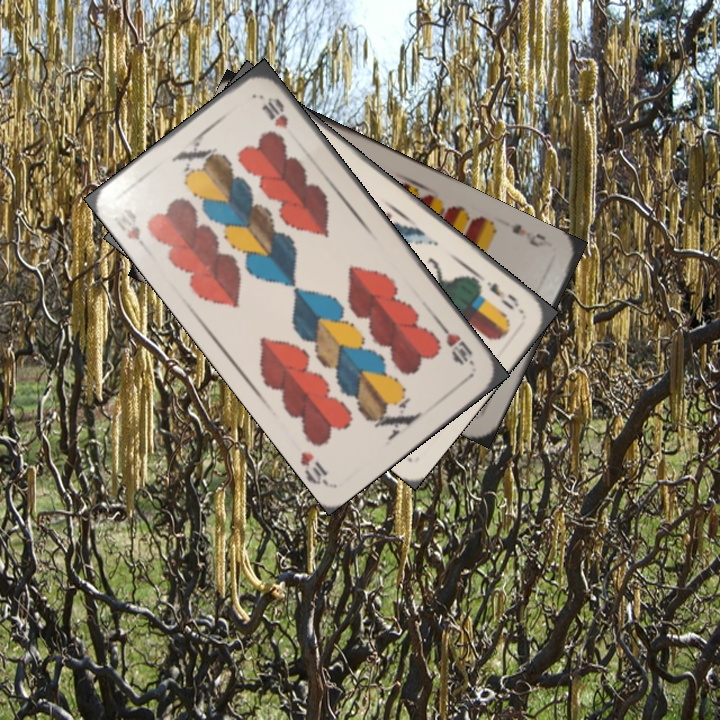E9: (507, 220, 555, 250)
EO: (482, 277, 522, 313)
H10: (436, 320, 478, 369), (119, 204, 152, 255)
